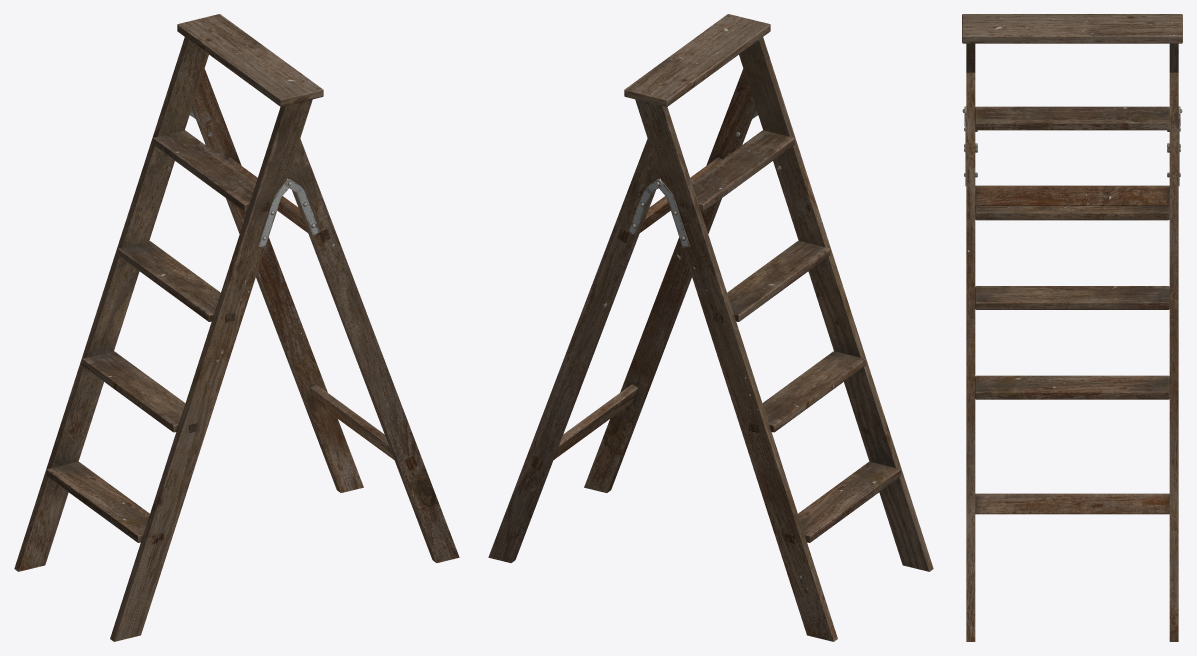
File: wooden_ladder.glb
3 renders of one model, left to right at view 1: azimuth 30°, elevation 25°; view 2: azimuth 150°, elevation 25°; view 3: azimuth 270°, elevation 25°, orthographic. The views are drawn at different scales.
Parts seen in each view (by area): view 1: wooden_ladder_steps, wooden_ladder_supports; view 2: wooden_ladder_steps, wooden_ladder_supports; view 3: wooden_ladder_steps, wooden_ladder_supports.
Part boxes in pixels (box(x1,y1,x2,y2)): wooden_ladder_steps: box(14, 14, 323, 641); wooden_ladder_supports: box(190, 68, 459, 562); wooden_ladder_steps: box(624, 14, 933, 641); wooden_ladder_supports: box(488, 68, 757, 562); wooden_ladder_steps: box(962, 14, 1182, 399); wooden_ladder_supports: box(962, 72, 1182, 641).
Bounding box in the file's own units: 0.9592 × 1.33 × 0.5.
Materials: 1 (1 with a texture image).
